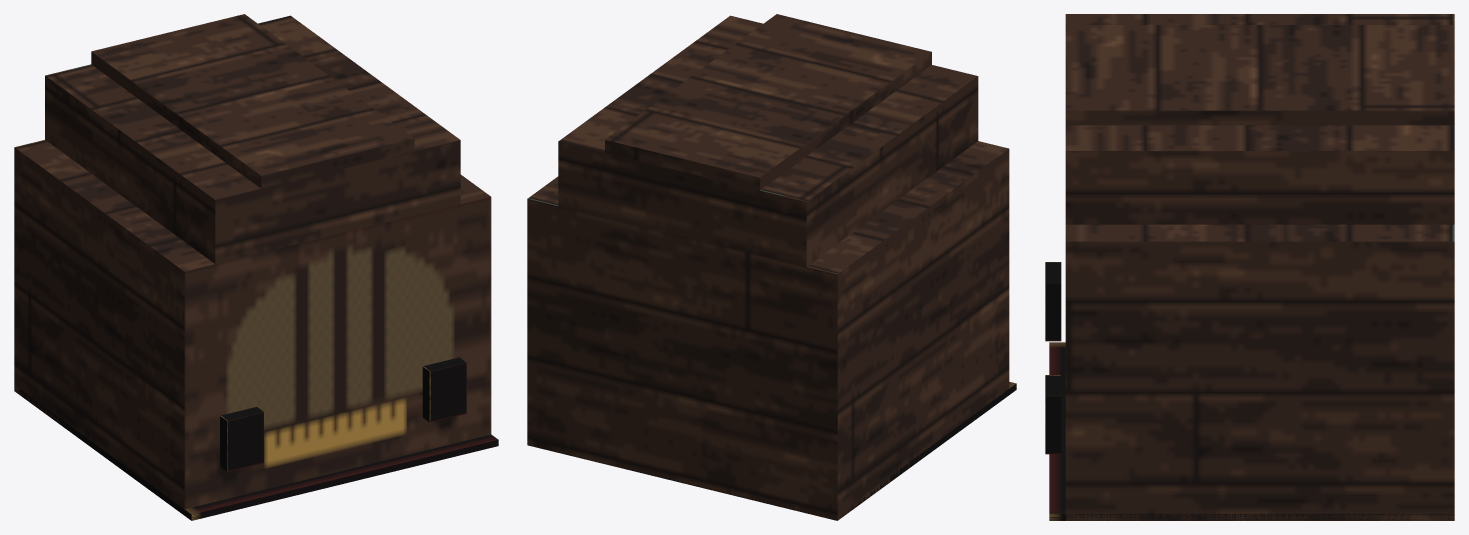
The model's file is Story_Radio.fbx.
3 renders of one model, left to right at view 1: azimuth 30°, elevation 25°; view 2: azimuth 150°, elevation 25°; view 3: azimuth 270°, elevation 25°, orthographic. The views are drawn at different scales.
Visible parts, largest first — view 1: Story_Radio; view 2: Story_Radio; view 3: Story_Radio.
Boxes of the visible parts, left/top/right/bottom form: Story_Radio: left=14, top=14, right=498, bottom=520; Story_Radio: left=527, top=14, right=1016, bottom=520; Story_Radio: left=1045, top=14, right=1454, bottom=520.
Size of the model in its own units: 1 by 1 by 1.01.
